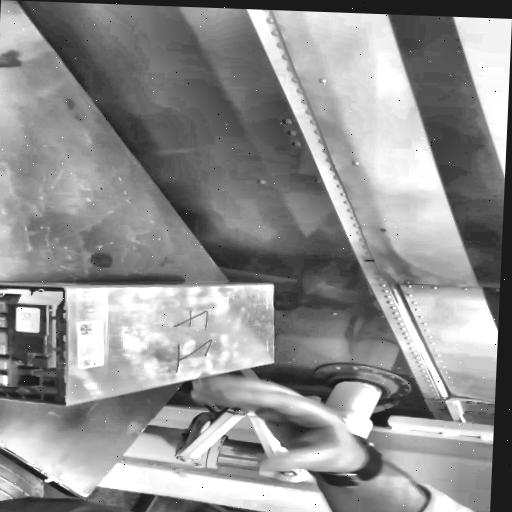battery_module: (0, 284, 275, 405)
